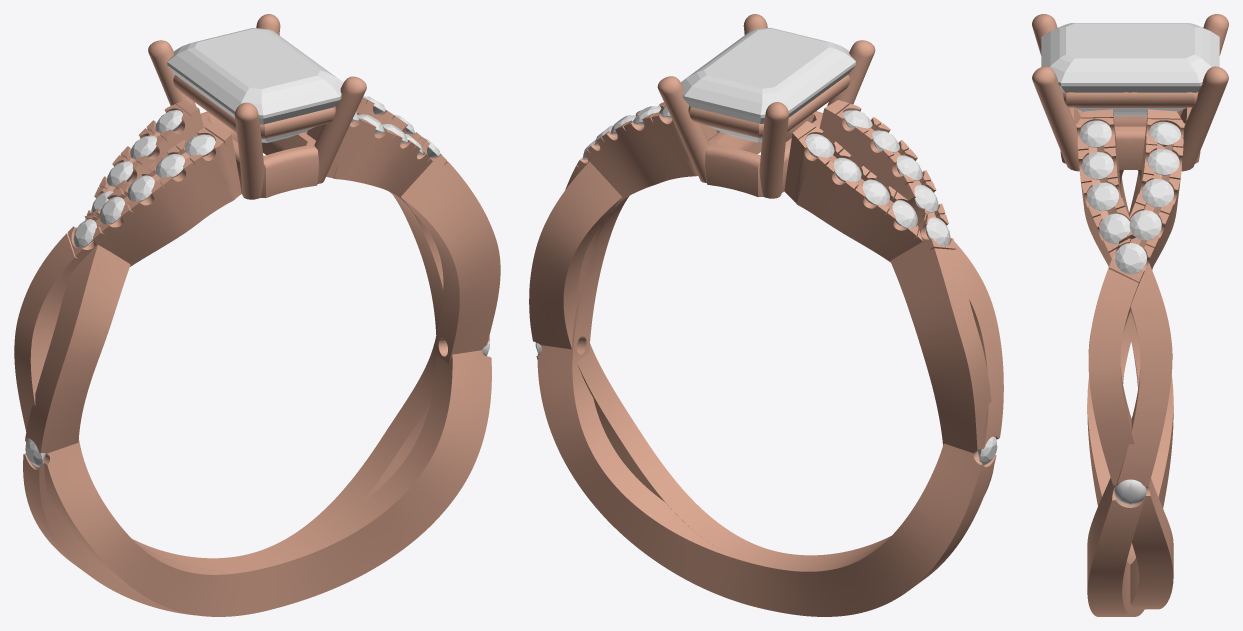
The model's file is diamond-emerald-rosegold-4prong-twist-sidestones.glb.
3 renders of one model, left to right at view 1: azimuth 30°, elevation 25°; view 2: azimuth 150°, elevation 25°; view 3: azimuth 270°, elevation 25°, orthographic.
Visible parts, largest first — view 1: metal, stone; view 2: metal, stone; view 3: metal, stone, side.015, side.016, side.017, side.012, side.011, side.013, side.014, side.018, side.010, side.019.
Boxes of the visible parts, <box> form: metal: <box>14,14,500,616</box>; stone: <box>167,27,343,142</box>; metal: <box>529,14,1003,616</box>; stone: <box>681,27,855,142</box>; metal: <box>1032,14,1228,616</box>; stone: <box>1041,23,1219,116</box>; side.015: <box>1115,243,1146,274</box>; side.016: <box>1129,210,1161,240</box>; side.017: <box>1142,179,1173,207</box>; side.012: <box>1087,182,1118,210</box>; side.011: <box>1099,213,1130,243</box>; side.013: <box>1082,152,1113,179</box>; side.014: <box>1080,120,1111,147</box>; side.018: <box>1147,149,1179,175</box>; side.010: <box>1114,479,1146,505</box>; side.019: <box>1149,122,1180,145</box>.
Size of the model in its own units: 19.97 by 22.74 by 7.4.
